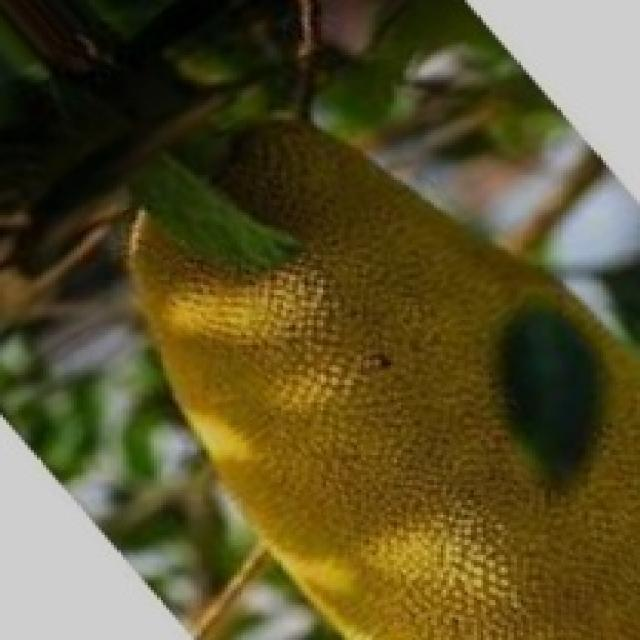Fruit: (228, 258, 637, 638)
